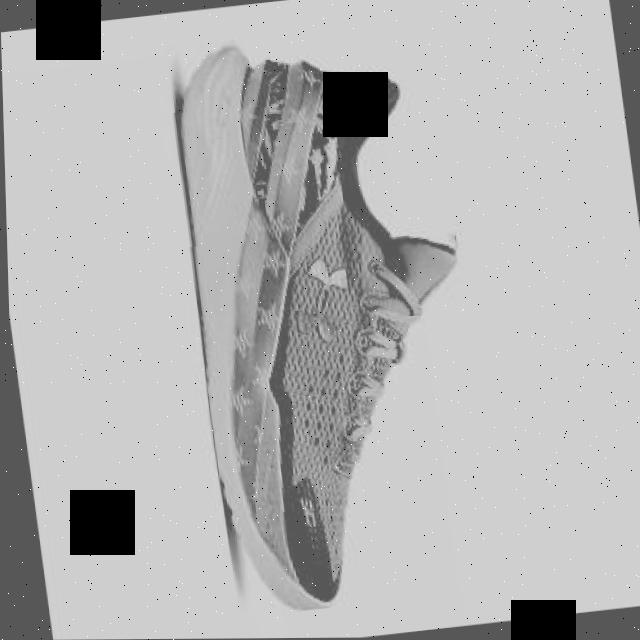shoe: (160, 15, 501, 618)
